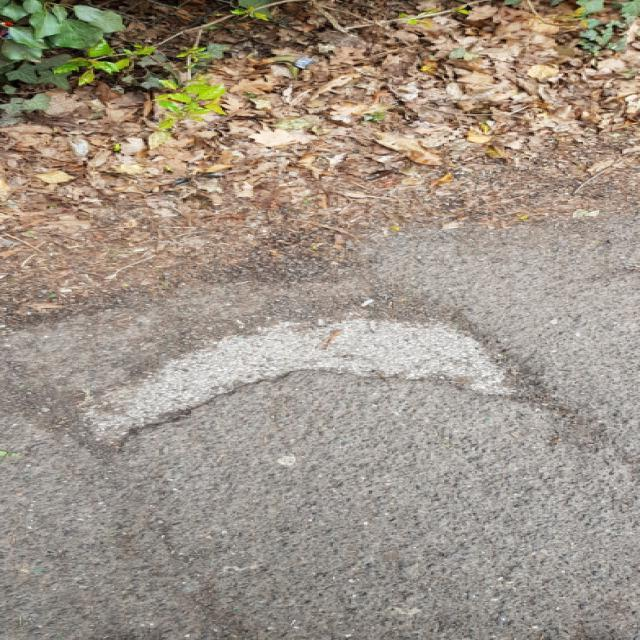Pothole: (57, 296, 560, 455)
